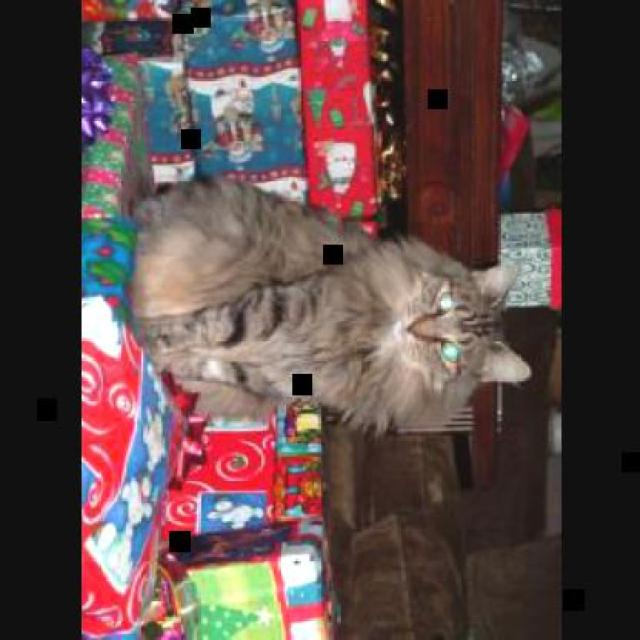unauthorized: (122, 171, 532, 438)
